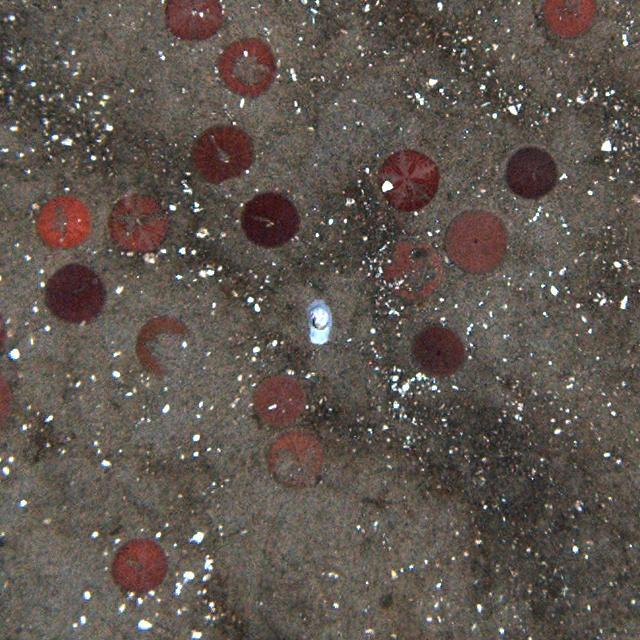whelk: (309, 307, 332, 331)
